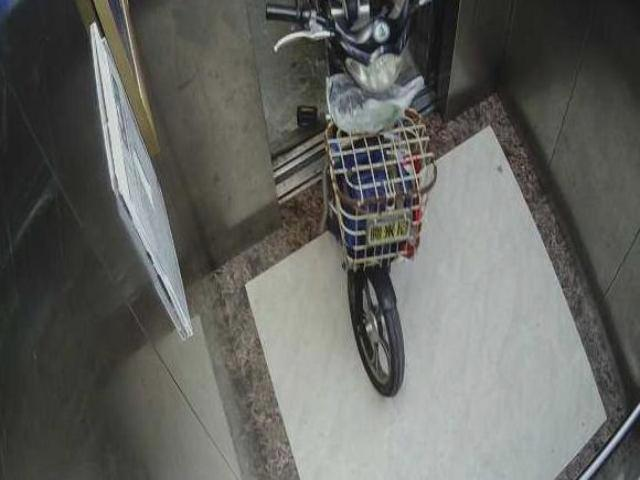emotor: (271, 7, 449, 397)
